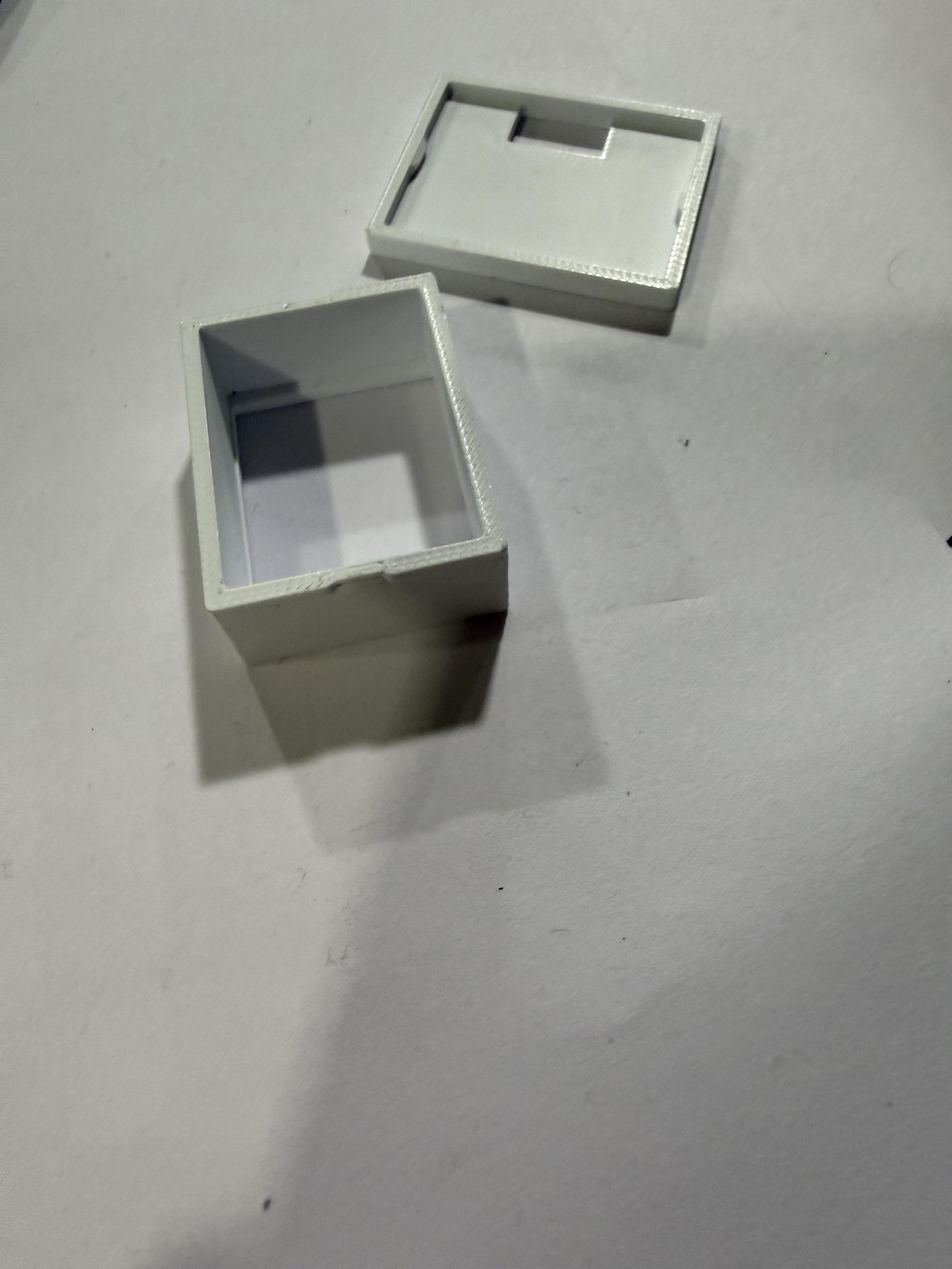enclosure: (179, 273, 509, 756), (366, 74, 722, 334)
